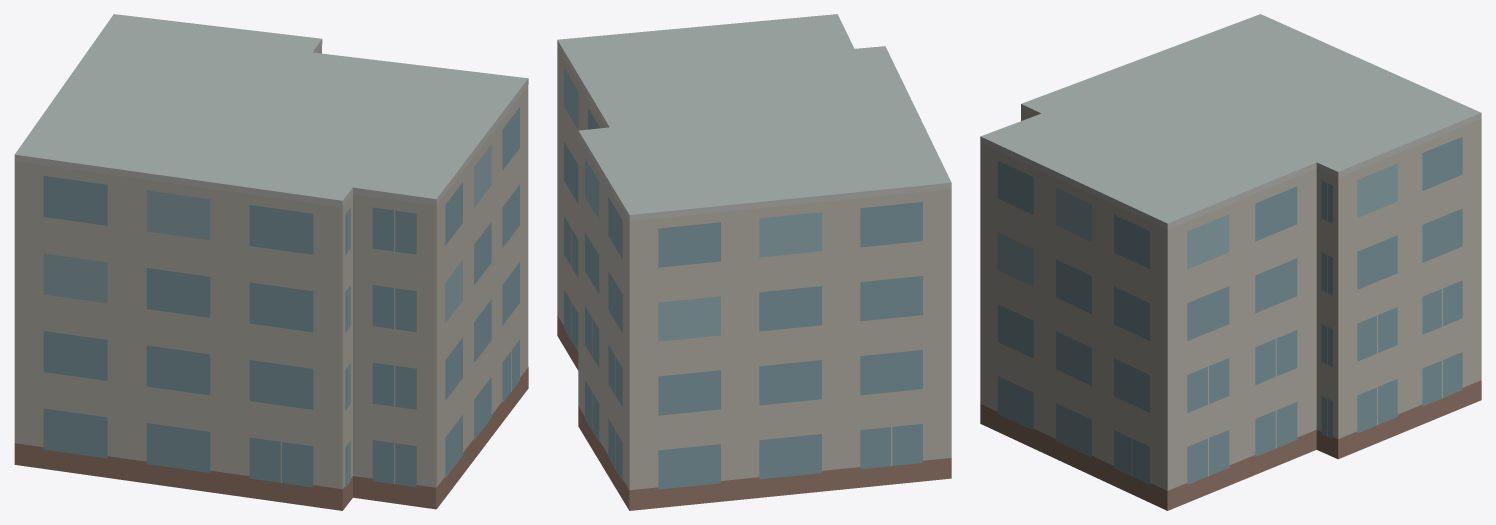
File: survey-upis-32906894.glb
The picture shows the model from 3 angles, left to right: view 1: azimuth 30°, elevation 25°; view 2: azimuth 150°, elevation 25°; view 3: azimuth 270°, elevation 25°; orthographic projection. The views are drawn at different scales.
Visible parts, largest first — view 1: survey-upis-32906894.tmp; view 2: survey-upis-32906894.tmp; view 3: survey-upis-32906894.tmp.
Part boxes in pixels (box(x1,y1,x2,y2)): survey-upis-32906894.tmp: box(14, 14, 528, 510); survey-upis-32906894.tmp: box(557, 14, 951, 510); survey-upis-32906894.tmp: box(980, 14, 1481, 510).
Bounding box in the file's own units: 18.31 × 11.7 × 18.5.
